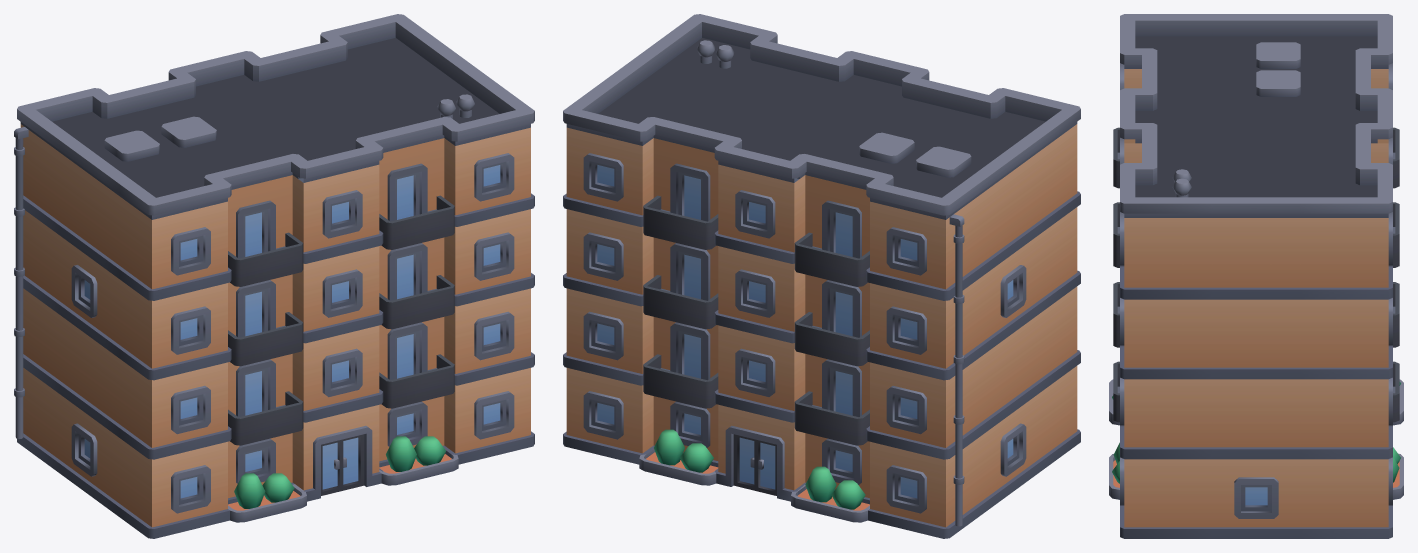
File: hotel-transformed.glb
3 views of the same model, side by side, from view 1: azimuth 30°, elevation 25°; view 2: azimuth 150°, elevation 25°; view 3: azimuth 270°, elevation 25° (orthographic).
Parts seen in each view (by area): view 1: building-j; view 2: building-j; view 3: building-j.
Boxes of the visible parts, x1,y1,x2,y2 form: building-j: [14, 14, 534, 538]; building-j: [563, 14, 1080, 538]; building-j: [1109, 14, 1403, 538].
Size of the model in its own units: 2.08 by 1.69 by 1.34.
1 material, 1 textured.
